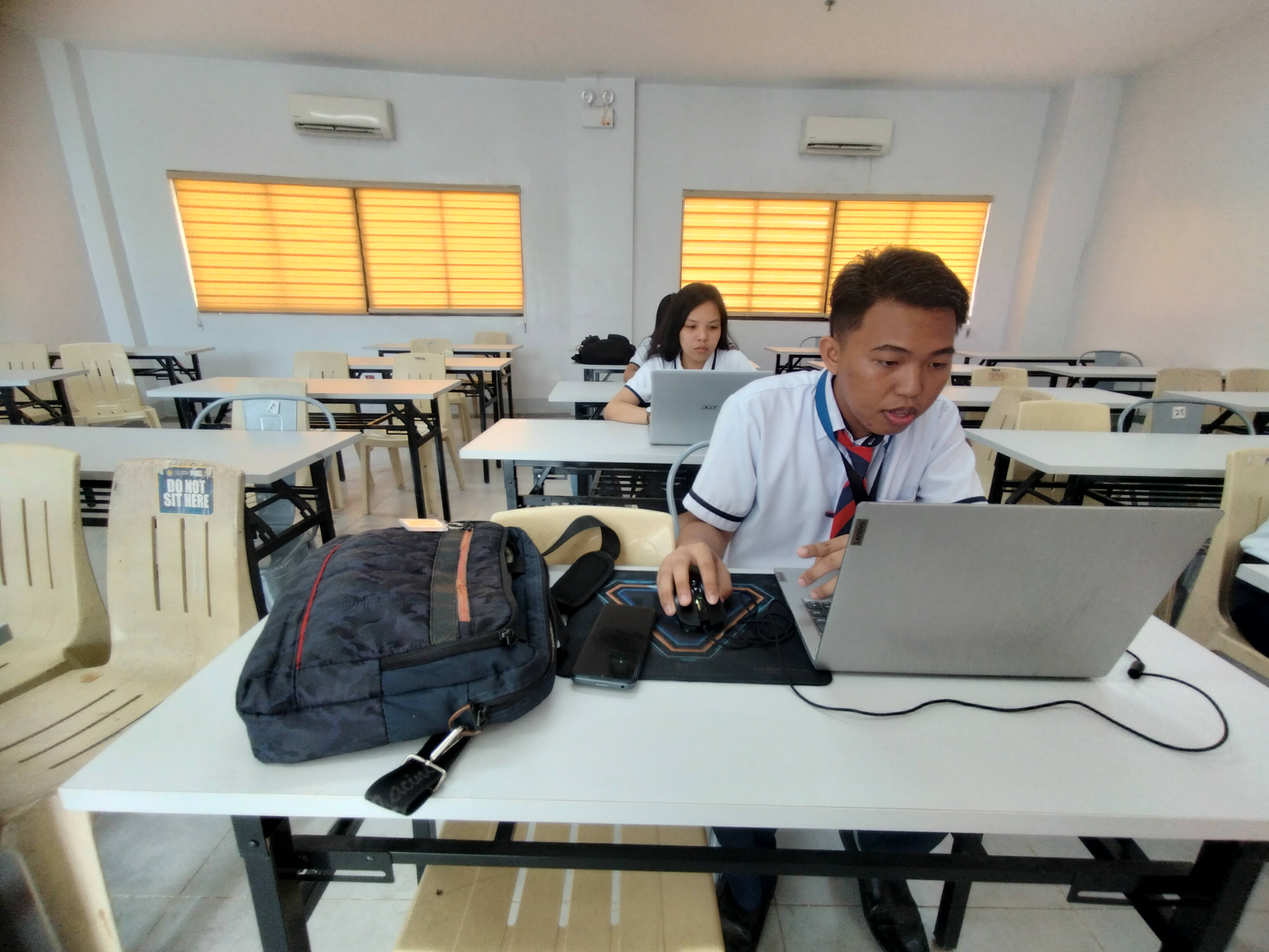with-student: (56, 216, 1269, 890), (456, 276, 830, 485)
